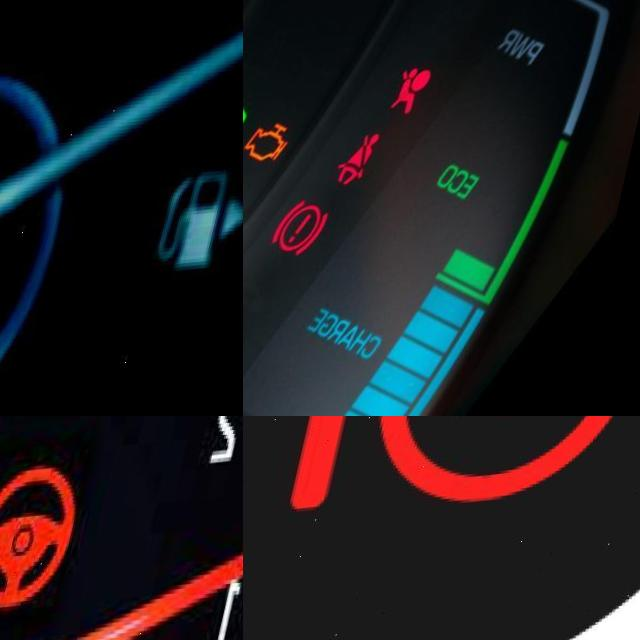Electronic Power Steering Warning: (305, 416, 640, 525), (0, 468, 101, 627)
Seat Belt: (347, 139, 399, 196)
